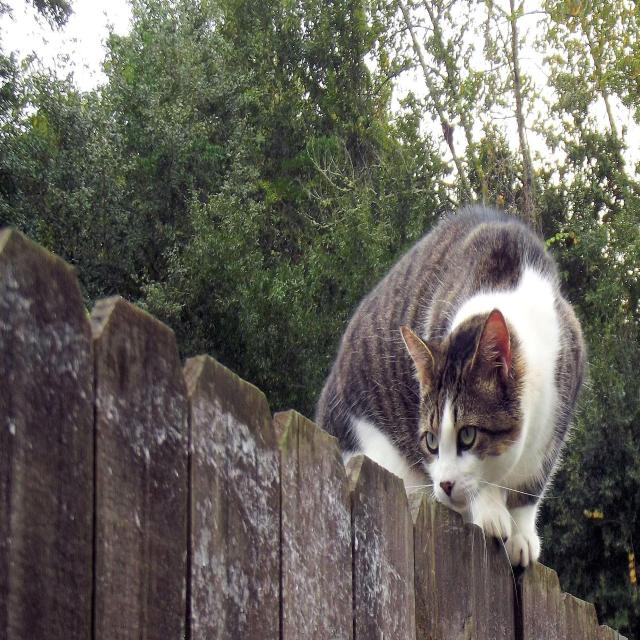cat: (316, 206, 586, 567)
